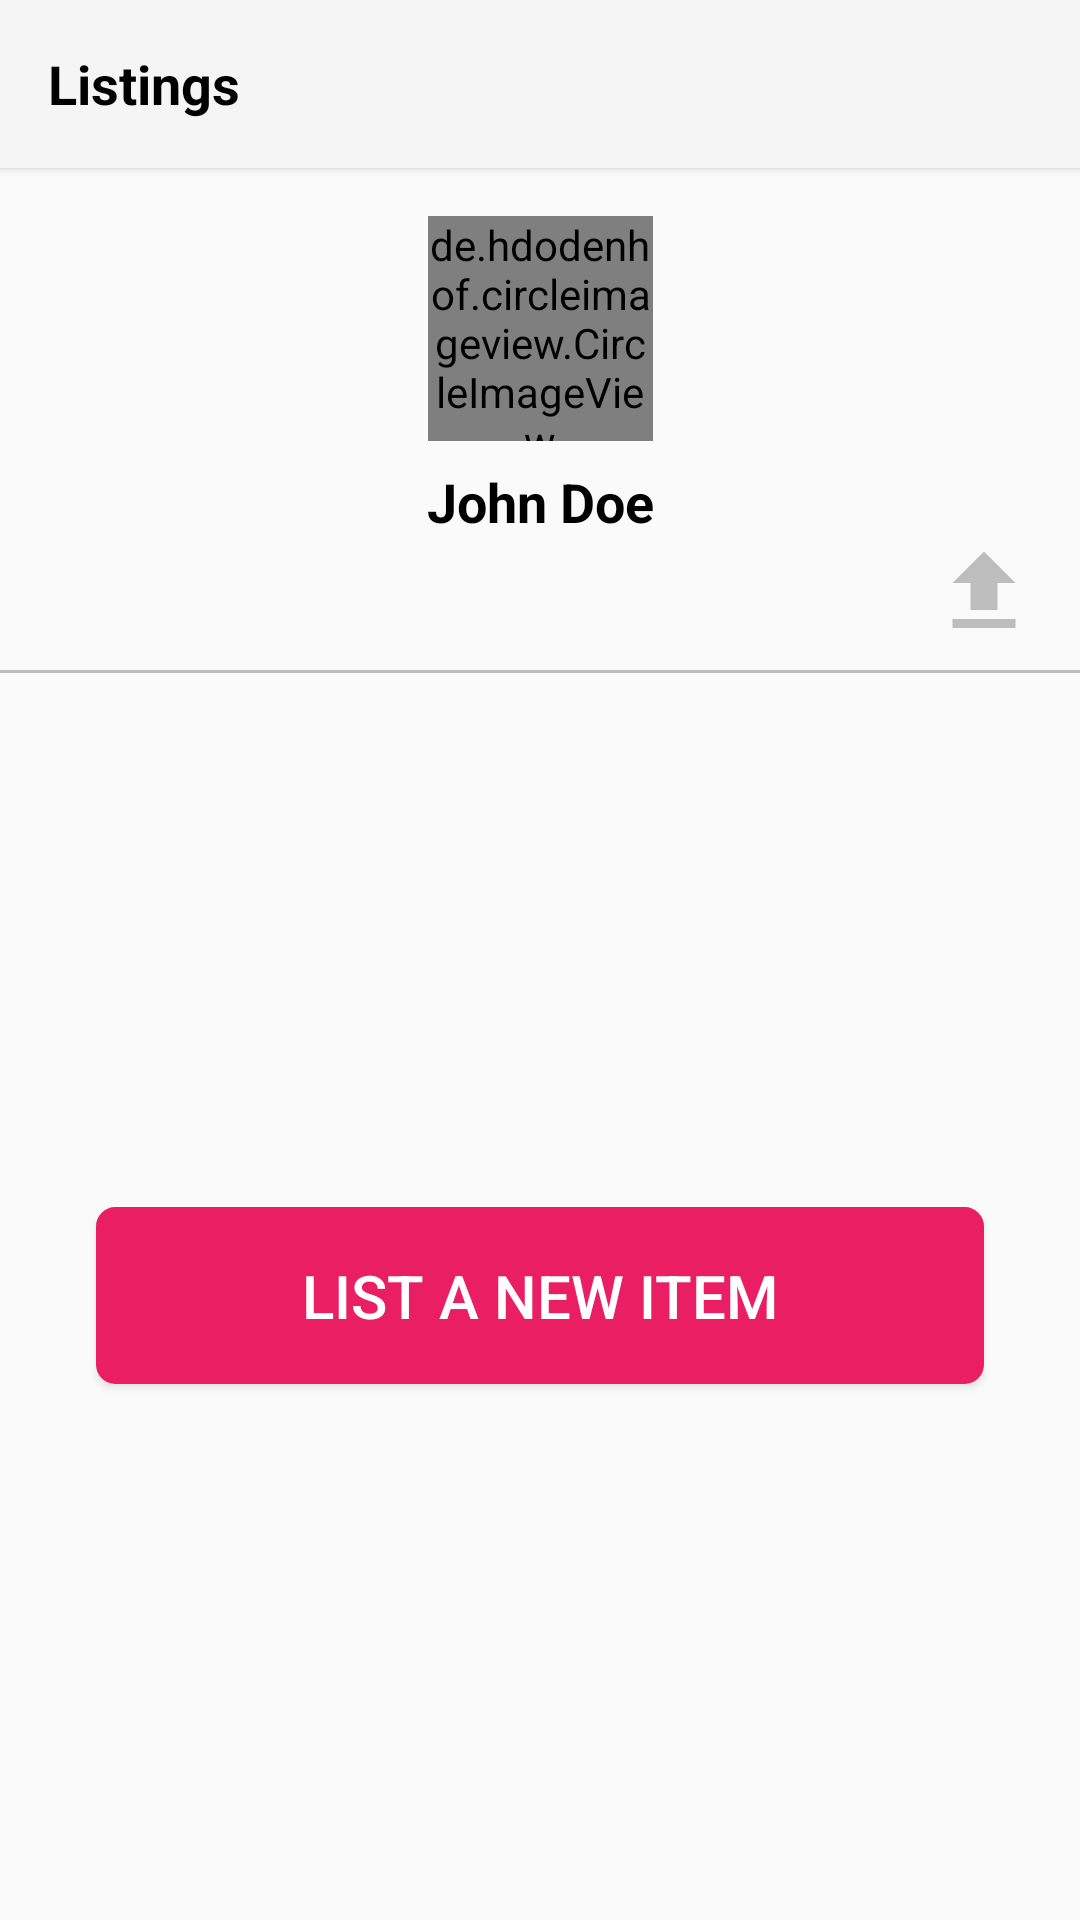

Icon bounding boxes for this 1080 × 1920 phone screenshot, format (x1, y1, x2, y2):
file upload: (952, 552, 1016, 628)
